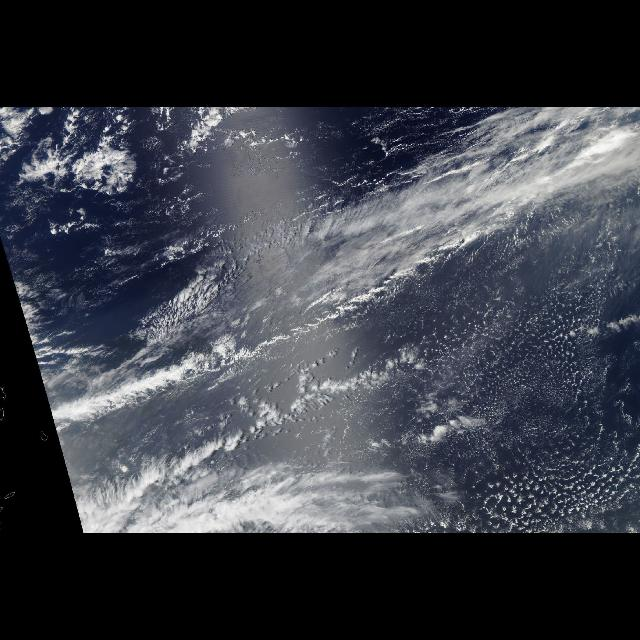Flower: (33, 118, 301, 225)
Gravel: (358, 322, 636, 532)
Sugar: (397, 258, 613, 526)
